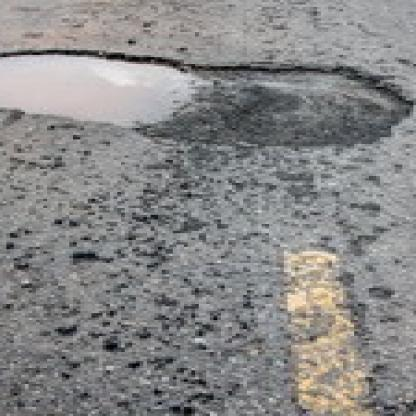pothole: (0, 46, 416, 149)
